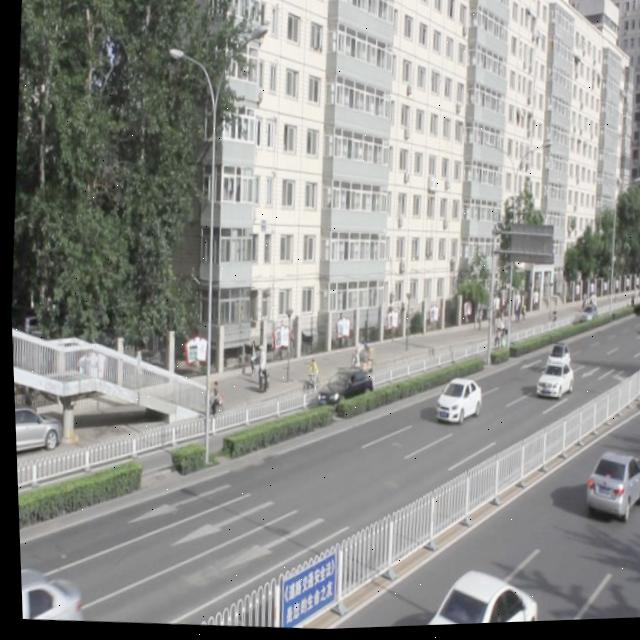car: (414, 564, 533, 628), (575, 448, 640, 525), (16, 560, 79, 622), (428, 374, 479, 429), (313, 365, 370, 411), (529, 360, 571, 405)
